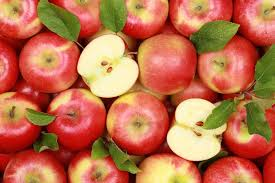apple: (197, 31, 259, 94), (22, 26, 81, 91), (48, 87, 104, 145), (108, 93, 167, 147), (137, 38, 198, 87), (222, 100, 272, 152), (2, 93, 42, 148), (71, 149, 134, 183), (3, 151, 68, 183), (109, 2, 167, 37), (137, 152, 201, 183), (171, 3, 233, 34), (235, 1, 273, 43), (205, 157, 262, 183), (1, 1, 43, 34)
damaged_apple: (79, 34, 142, 99), (168, 95, 226, 161)
